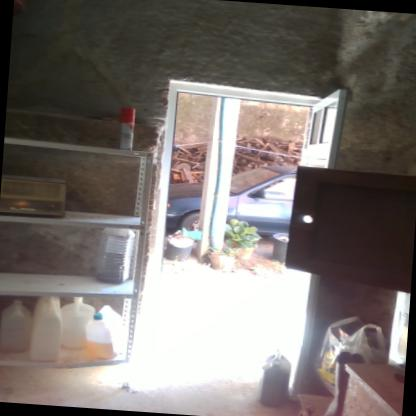open: (124, 68, 353, 401)
